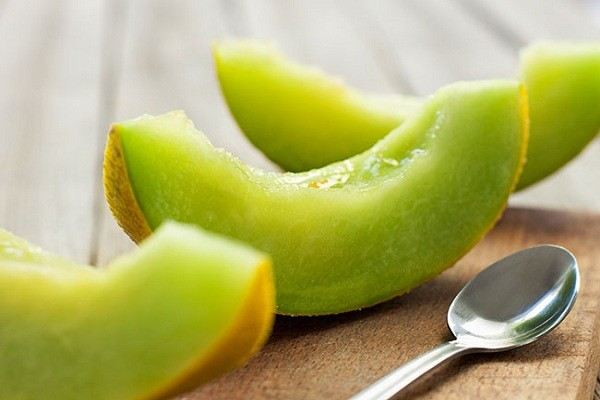Melon: (116, 92, 513, 322)
